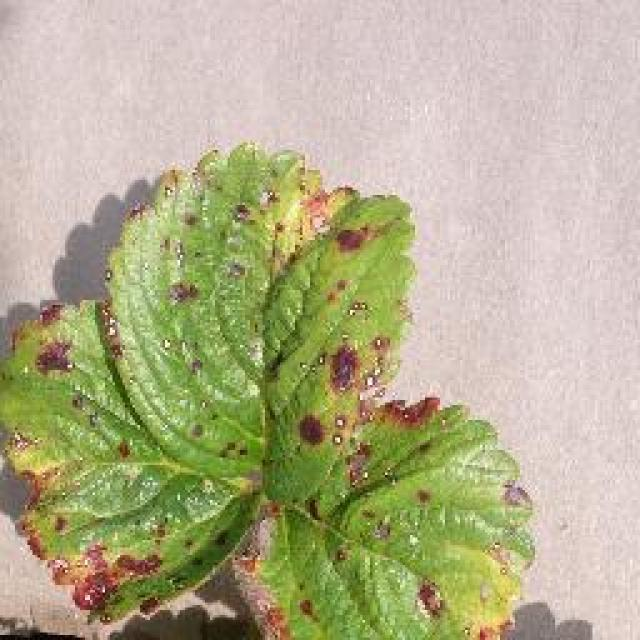Strawberry leaf scorch: (8, 131, 496, 640)
